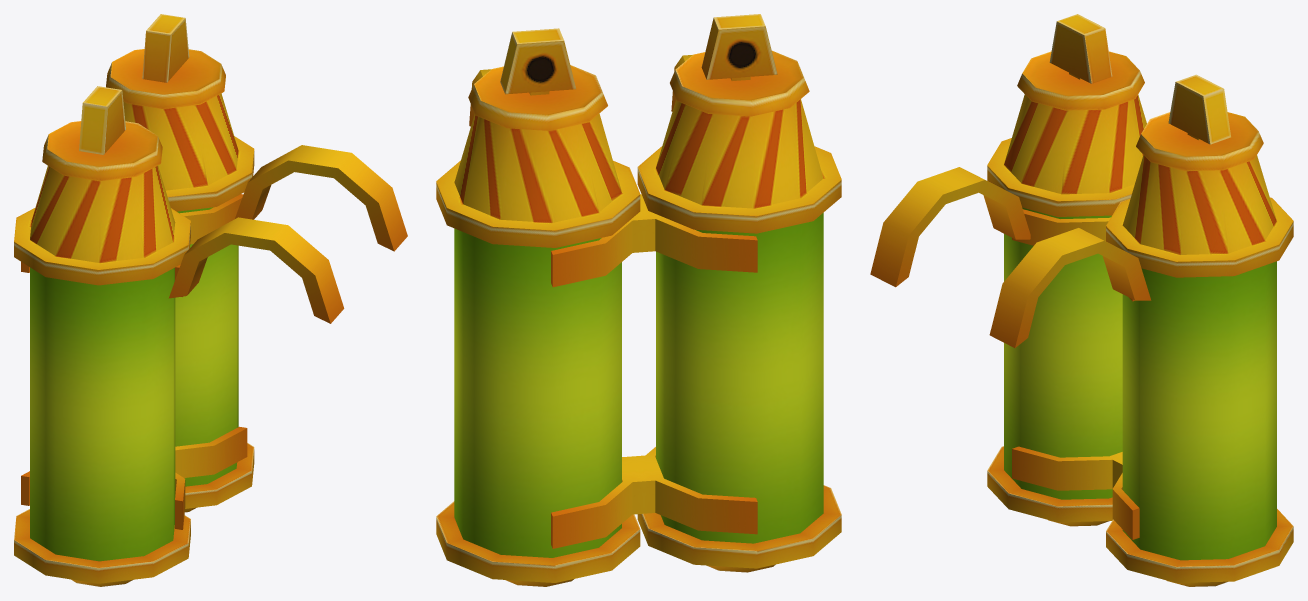
File: bay.fbx
3 views of the same model, side by side, from view 1: azimuth 30°, elevation 25°; view 2: azimuth 150°, elevation 25°; view 3: azimuth 270°, elevation 25° (orthographic). The views are drawn at different scales.
Visible parts, largest first — view 1: polySurface3; view 2: polySurface3; view 3: polySurface3.
Boxes of the visible parts, x1,y1,x2,y2 form: polySurface3: (14, 14, 407, 586); polySurface3: (436, 14, 841, 586); polySurface3: (870, 14, 1293, 586).
Bounding box in the file's own units: 6.39 × 8.25 × 6.54.
